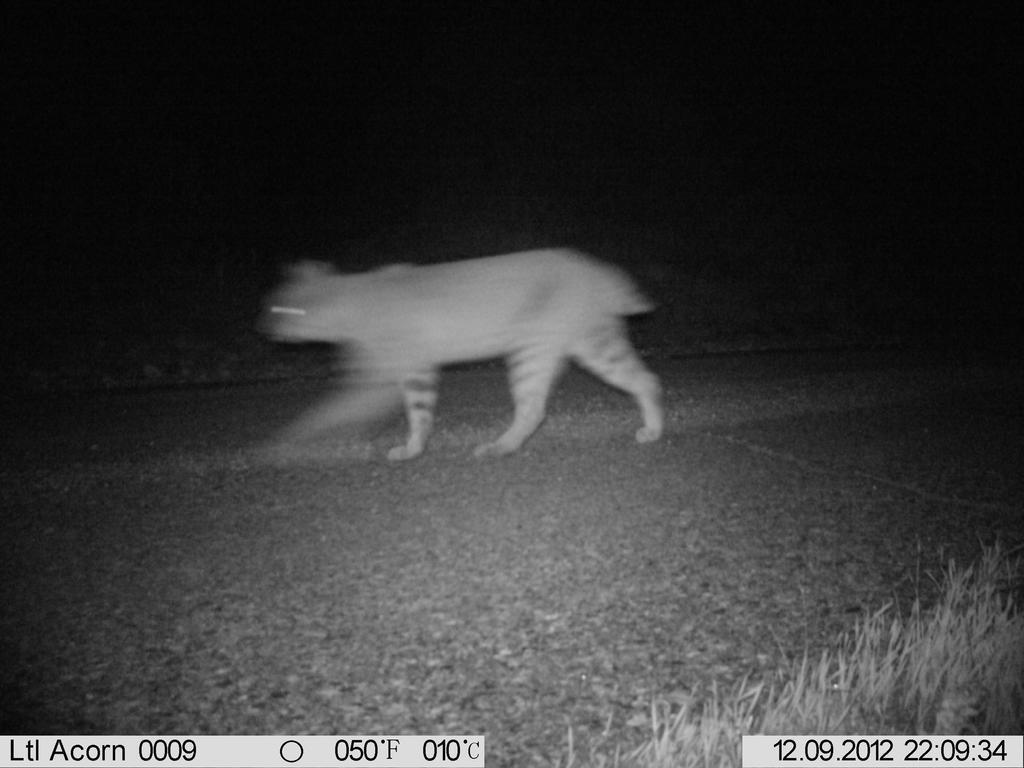bobcat: (260, 242, 689, 470)
